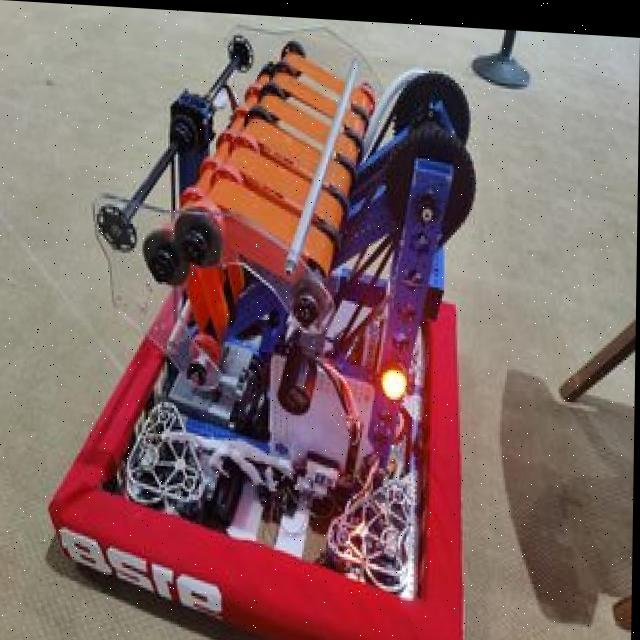robot: (43, 17, 518, 640)
